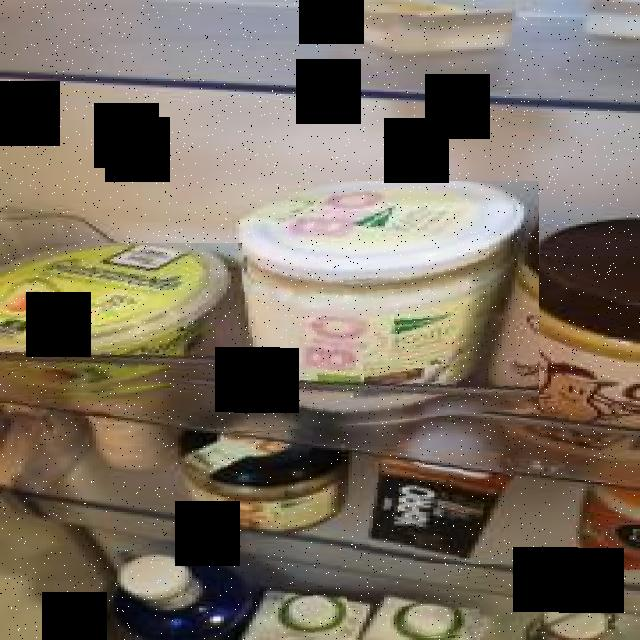guacamole: (0, 243, 242, 401)
milk: (272, 595, 347, 640), (384, 607, 480, 639)
yogurt: (222, 182, 539, 436), (352, 426, 516, 564)
